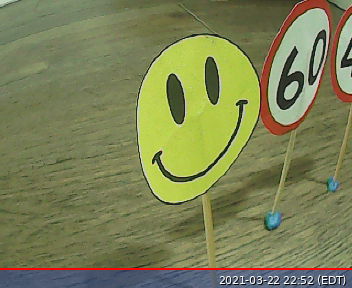Person: (136, 31, 261, 204)
